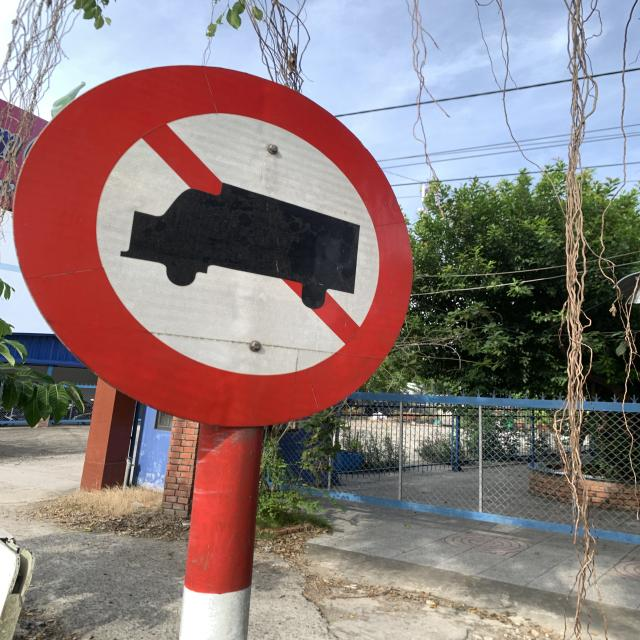Cam_Xe_Tai: (16, 64, 414, 428)
